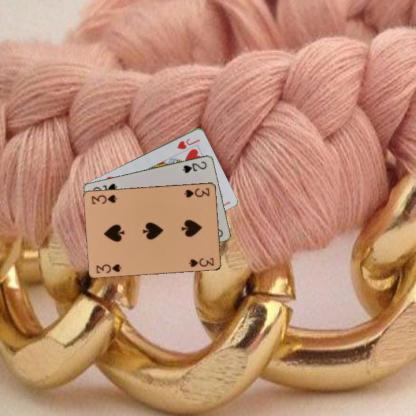2s: (180, 158, 208, 174)
3s: (182, 185, 211, 199), (94, 261, 123, 275)
Jh: (175, 136, 201, 150)
